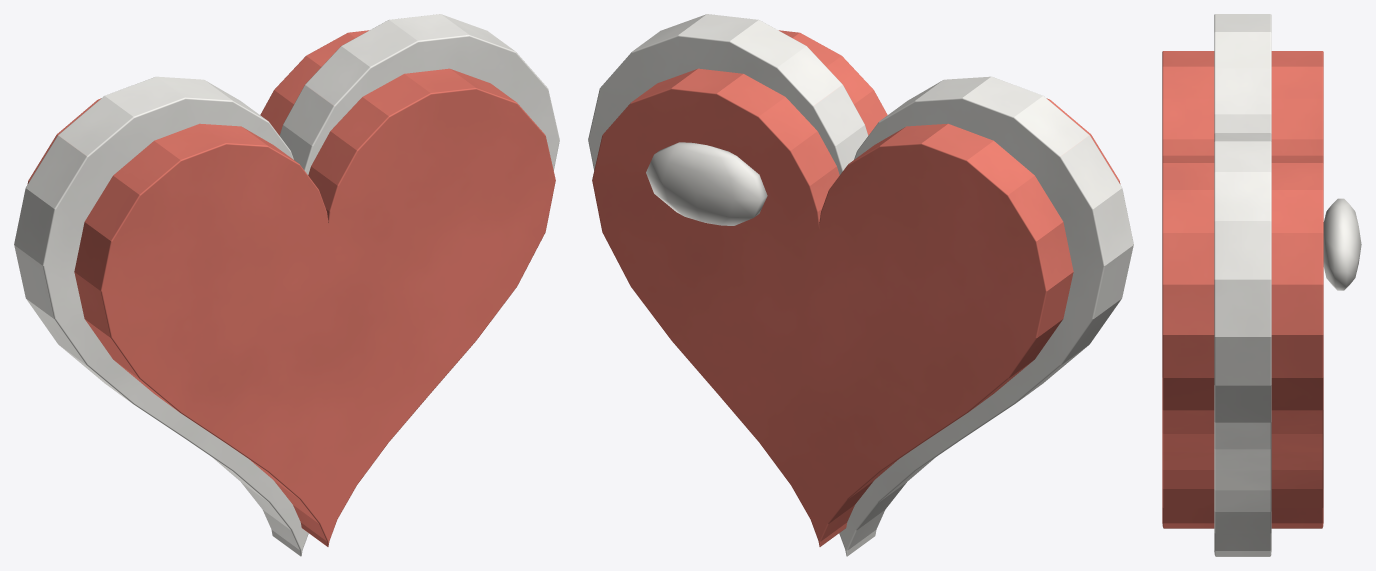
Rendered from Viral_HeartPop.fbx.
3 views of the same model, side by side, from view 1: azimuth 30°, elevation 25°; view 2: azimuth 150°, elevation 25°; view 3: azimuth 270°, elevation 25° (orthographic). The views are drawn at different scales.
Parts seen in each view (by area): view 1: Viral_HeartPop; view 2: Viral_HeartPop; view 3: Viral_HeartPop.
Boxes of the visible parts, x1,y1,x2,y2 form: Viral_HeartPop: [14, 14, 559, 556]; Viral_HeartPop: [588, 14, 1133, 556]; Viral_HeartPop: [1162, 14, 1361, 556].
Size of the model in its own units: 0.5 by 0.4508 by 0.173.
1 material, 1 textured.
